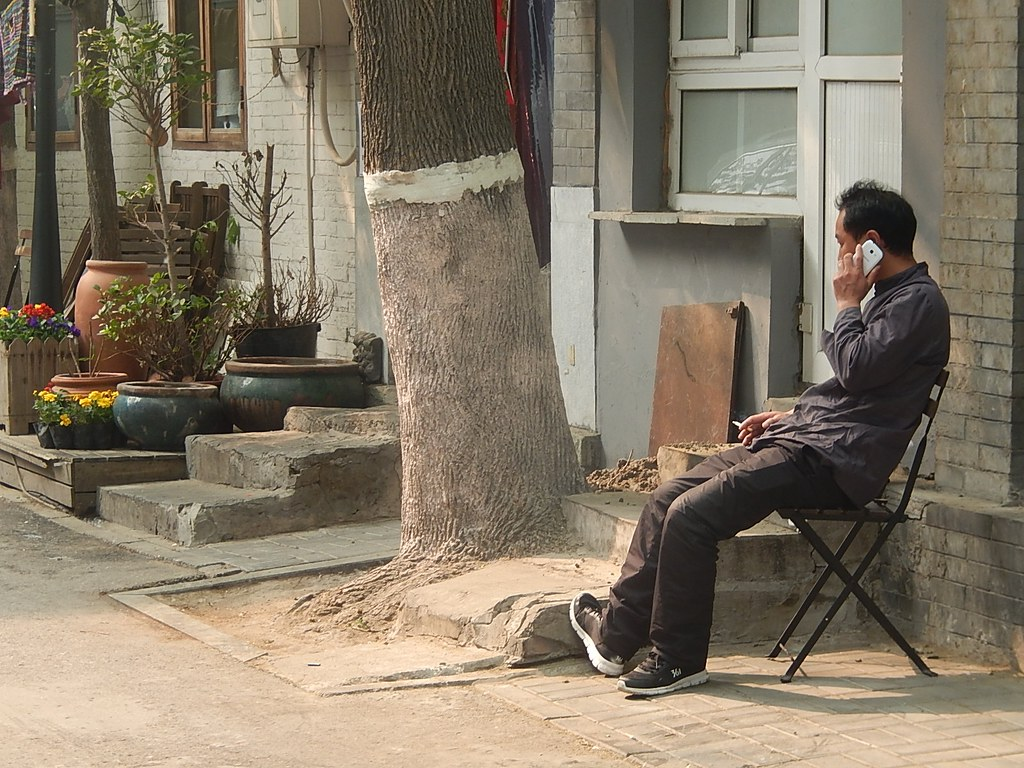phone: (834, 244, 890, 290)
talk: (828, 223, 906, 316)
